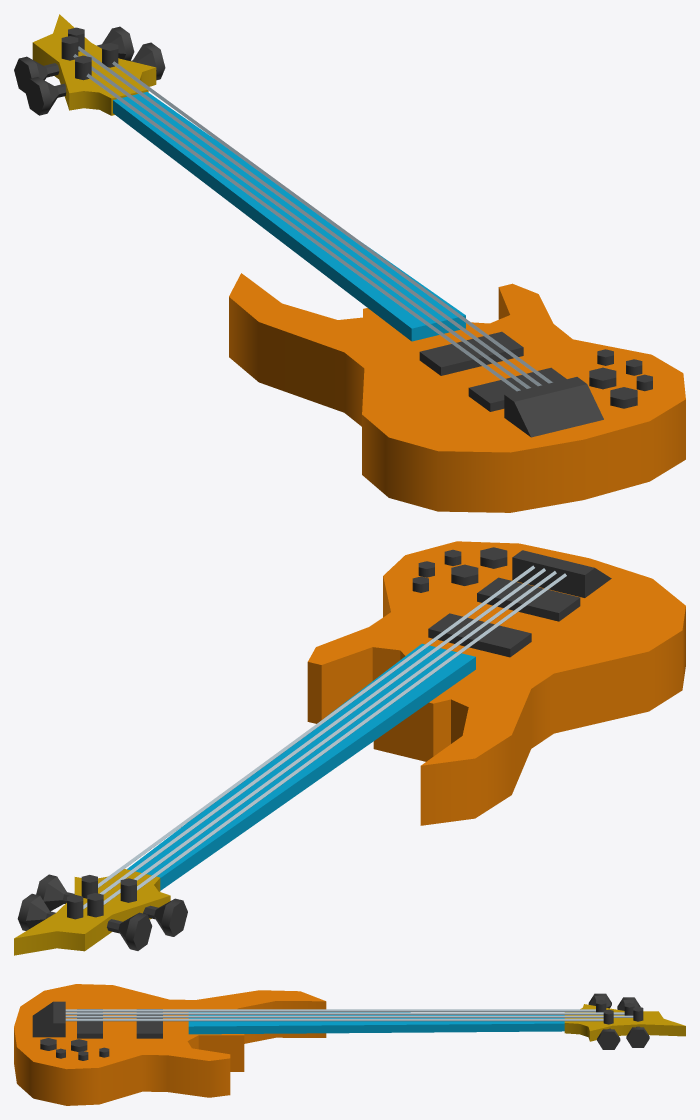
The model's file is Guitar.glb.
The picture shows the model from 3 angles, top to bottom: view 1: azimuth 30°, elevation 25°; view 2: azimuth 150°, elevation 25°; view 3: azimuth 270°, elevation 25°; orthographic projection. The views are drawn at different scales.
Visible parts, largest first — view 1: Line021; view 2: Line021; view 3: Line021.
Boxes of the visible parts, <box> form: Line021: <box>14,14,685,512</box>; Line021: <box>14,541,685,955</box>; Line021: <box>14,984,685,1105</box>.
Bounding box in the file's own units: 0.3476 × 0.1065 × 1.16.
